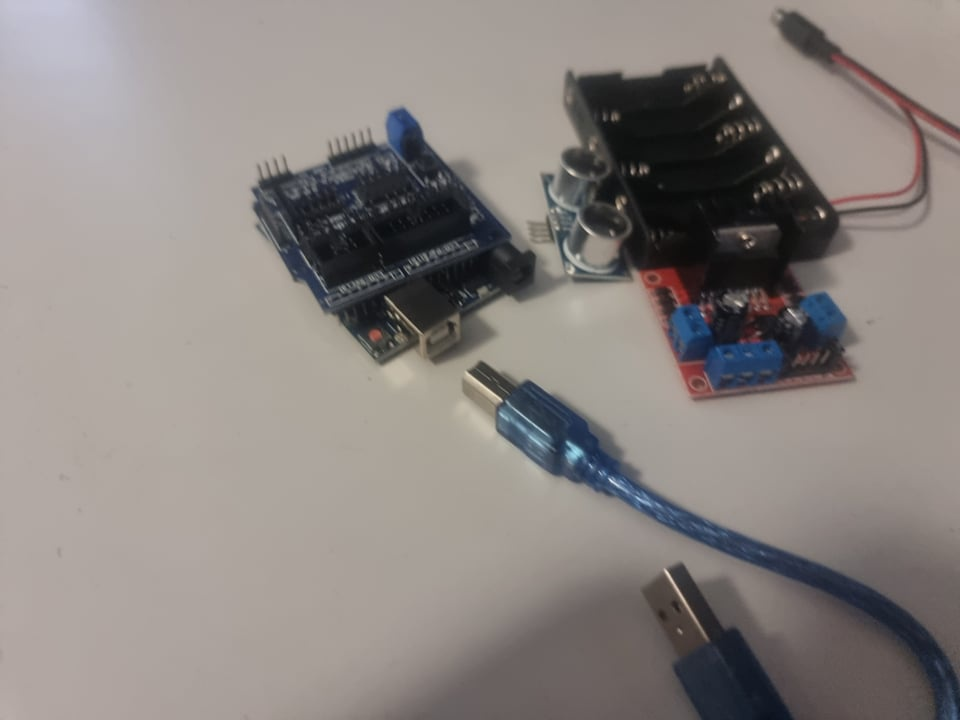5V EXPANSION: (251, 110, 500, 296)
BATTERY BOX: (561, 51, 844, 251)
MOTOR: (645, 214, 856, 406)
SENSOR: (548, 144, 628, 283)
UNO R3: (349, 249, 544, 364)
